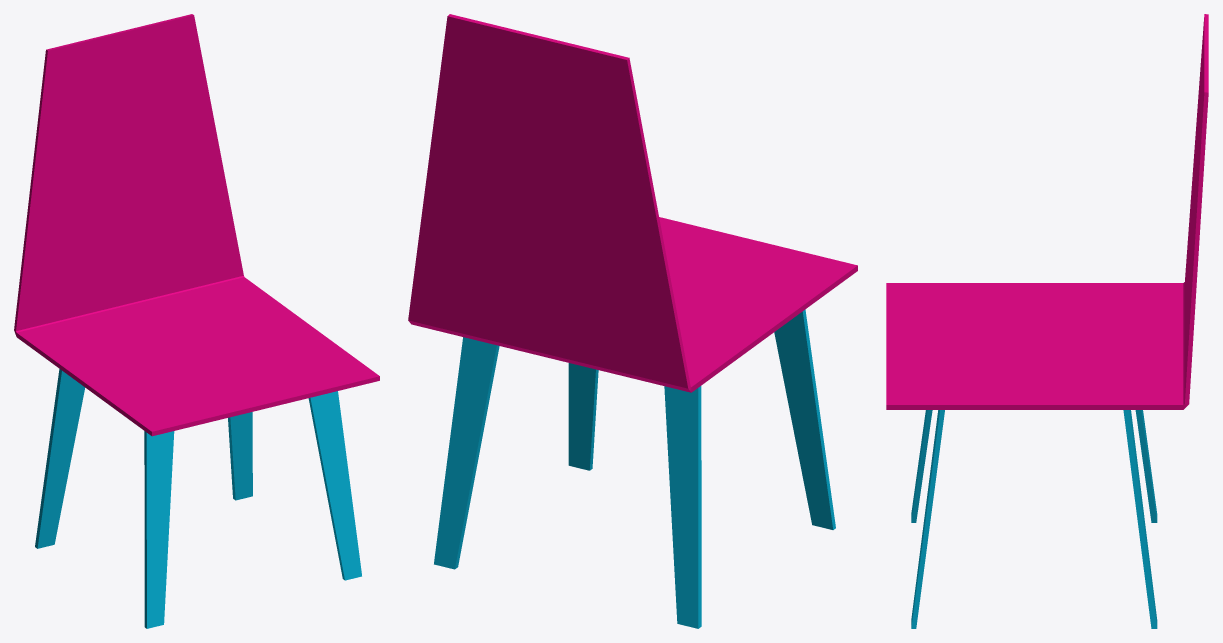
File: ChairFull.fbx
3 views of the same model, side by side, from view 1: azimuth 30°, elevation 25°; view 2: azimuth 150°, elevation 25°; view 3: azimuth 270°, elevation 25° (orthographic). The views are drawn at different scales.
Parts seen in each view (by area): view 1: Chair; view 2: Chair; view 3: Chair.
Boxes of the visible parts, x1,y1,x2,y2 form: Chair: (14, 14, 379, 628); Chair: (408, 14, 857, 628); Chair: (886, 14, 1208, 628).
Size of the model in its own units: 0.6573 by 1.3 by 0.7337.
